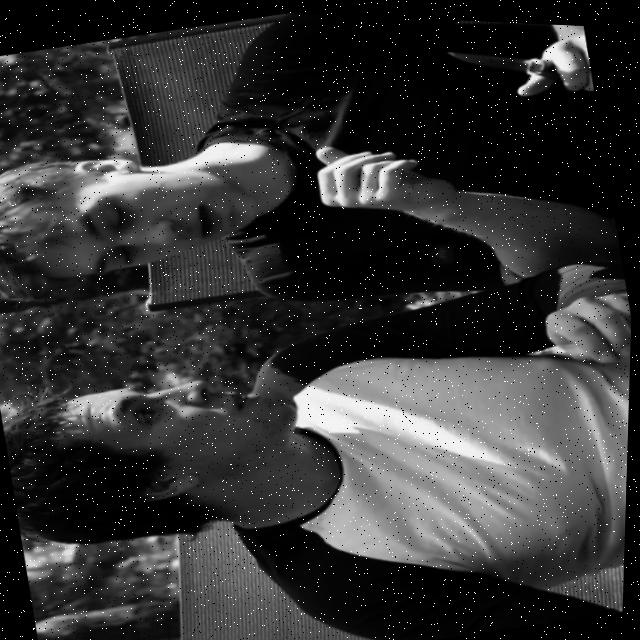knife: (444, 25, 564, 95)
